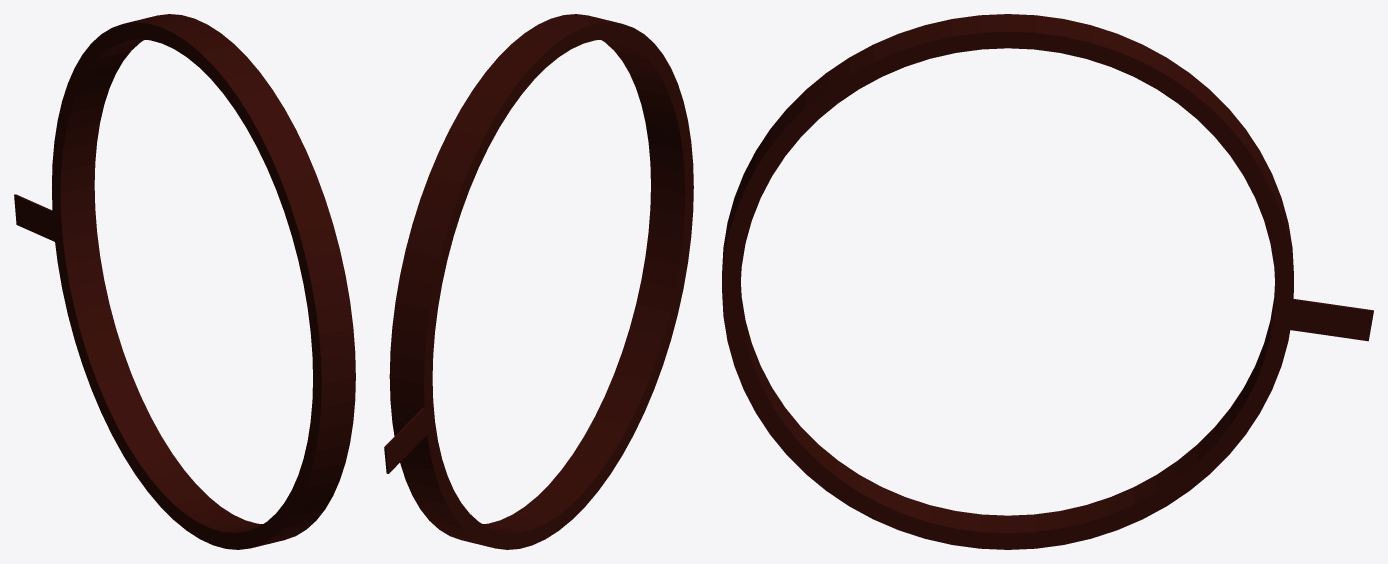
Rendered from fault_fretting.obj.
3 renders of one model, left to right at view 1: azimuth 30°, elevation 25°; view 2: azimuth 150°, elevation 25°; view 3: azimuth 270°, elevation 25°, orthographic. The views are drawn at different scales.
Parts seen in each view (by area): view 1: fault_fretting; view 2: fault_fretting; view 3: fault_fretting.
Part boxes in pixels (<box>): fault_fretting: <box>14,14,355,549</box>; fault_fretting: <box>384,14,693,549</box>; fault_fretting: <box>722,14,1373,549</box>.
Bounding box in the file's own units: 0.05 × 0.684 × 0.7797.
